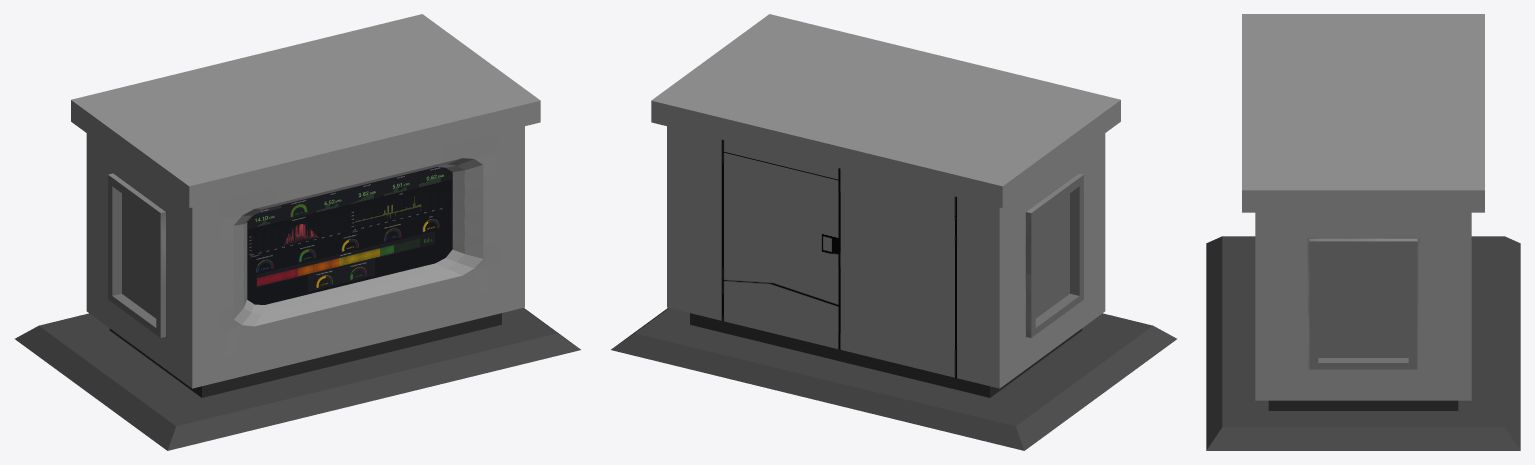
File: Inversor_e_Transformador_TEXTURIZADO_Mars_Station_Vitor_Hugo.fbx
The picture shows the model from 3 angles, left to right: view 1: azimuth 30°, elevation 25°; view 2: azimuth 150°, elevation 25°; view 3: azimuth 270°, elevation 25°; orthographic projection. The views are drawn at different scales.
Visible parts, largest first — view 1: pCube2, pCube1; view 2: pCube2, pCube1; view 3: pCube2, pCube1.
Boxes of the visible parts, x1,y1,x2,y2 form: pCube2: (71, 14, 540, 397); pCube1: (15, 308, 580, 450); pCube2: (651, 14, 1120, 397); pCube1: (611, 308, 1176, 450); pCube2: (1242, 14, 1484, 410); pCube1: (1206, 236, 1520, 450).
Size of the model in its own units: 4.35 by 2.43 by 2.78.
2 materials, 1 textured.
